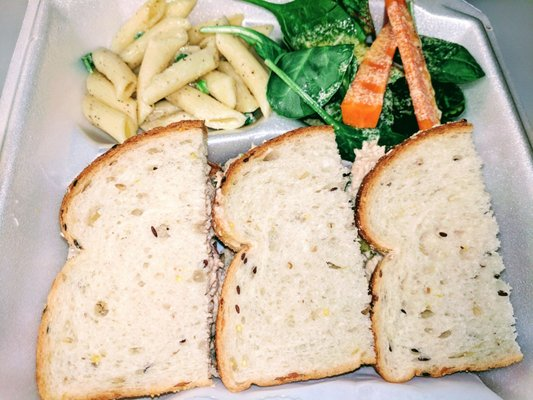soup: (36, 120, 226, 399), (355, 121, 525, 383), (212, 122, 377, 391)
